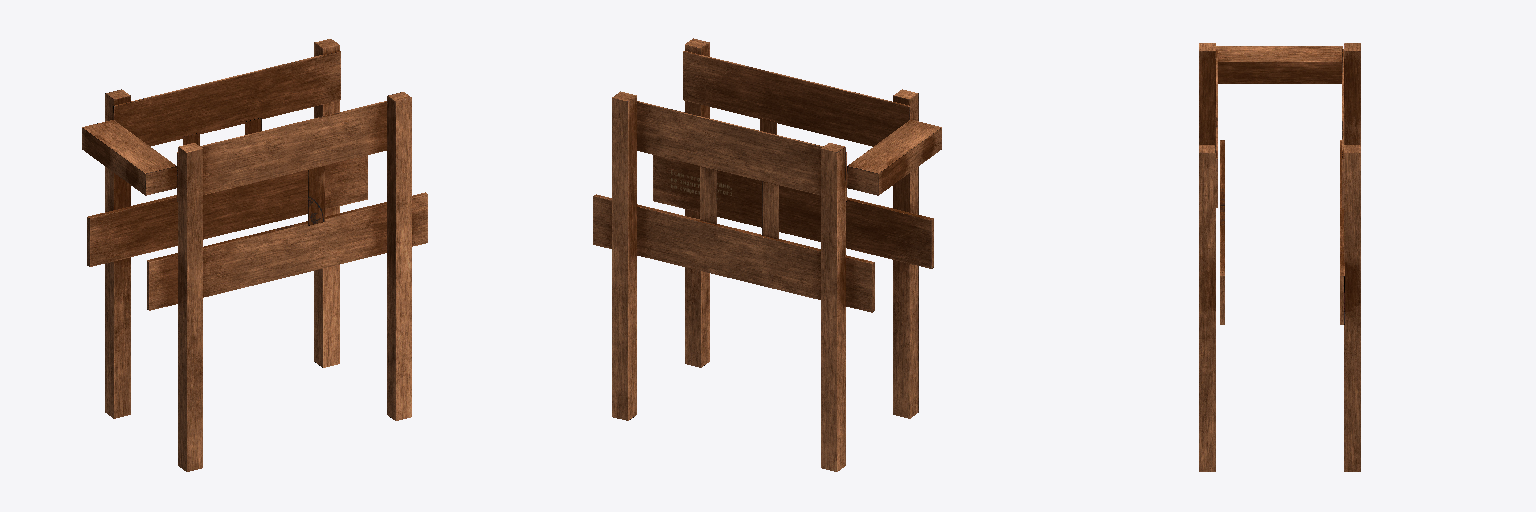
3 views of the same model, side by side, from view 1: azimuth 30°, elevation 25°; view 2: azimuth 150°, elevation 25°; view 3: azimuth 270°, elevation 25° (orthographic).
Visible parts, largest first — view 1: wood_id_Mesh.004; view 2: wood_id_Mesh.004; view 3: wood_id_Mesh.004.
Part boxes in pixels (x1,y1,x2,y2): wood_id_Mesh.004: (82,39,427,471); wood_id_Mesh.004: (593,38,941,471); wood_id_Mesh.004: (1199,43,1360,471).
Size of the model in its own units: 1.55 by 1.67 by 0.7695.
1 materials, 1 textured.